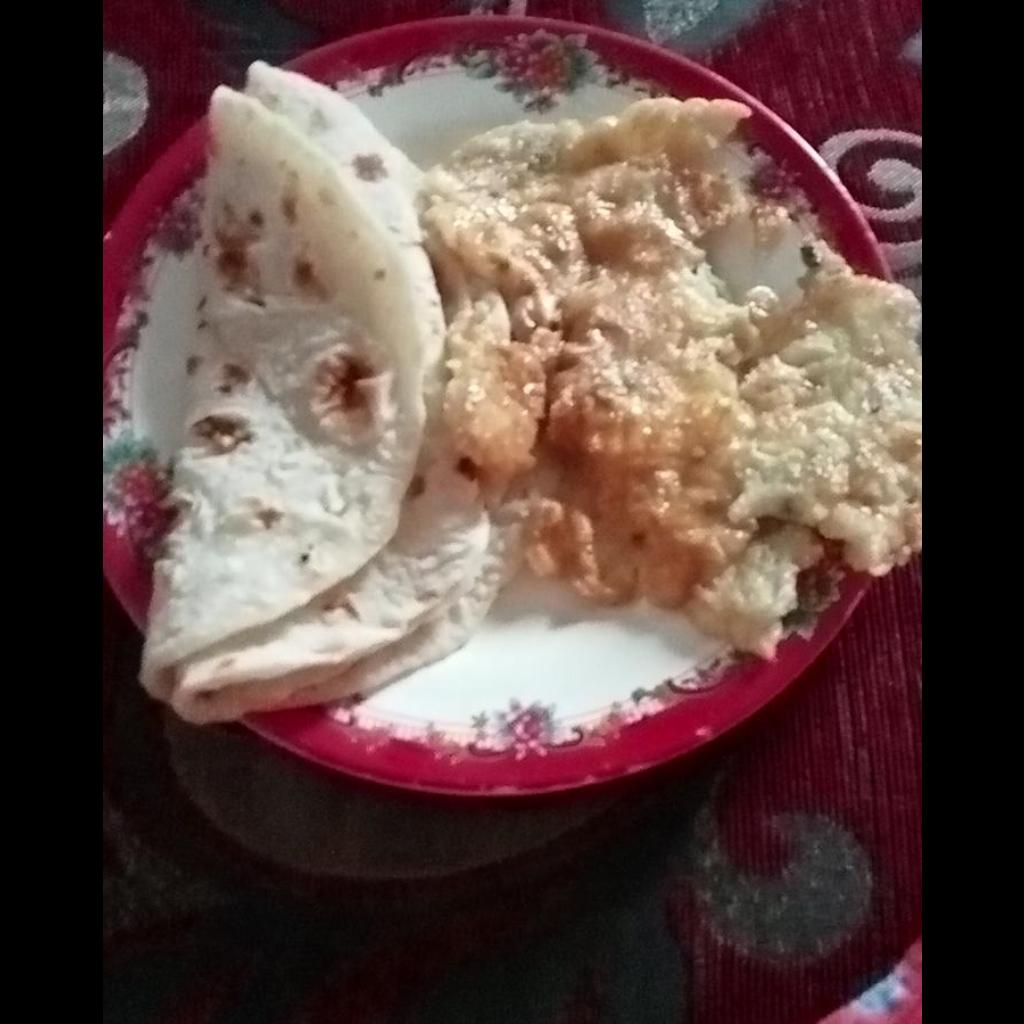egg-poached: (426, 98, 920, 654)
ruti: (134, 59, 531, 716)
